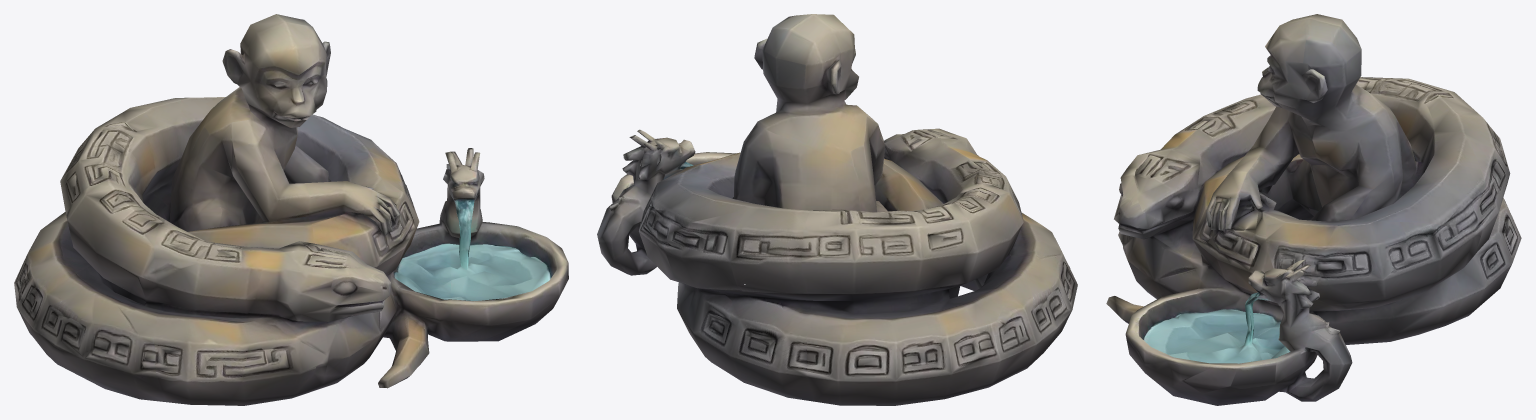
The model's file is he_si_shen.glb.
3 renders of one model, left to right at view 1: azimuth 30°, elevation 25°; view 2: azimuth 150°, elevation 25°; view 3: azimuth 270°, elevation 25°, orthographic.
Visible parts, largest first — view 1: tripo_node_a295179b-329f-4d72-bdf3-c4b051d9d51f; view 2: tripo_node_a295179b-329f-4d72-bdf3-c4b051d9d51f; view 3: tripo_node_a295179b-329f-4d72-bdf3-c4b051d9d51f.
Boxes of the visible parts, x1=… form: tripo_node_a295179b-329f-4d72-bdf3-c4b051d9d51f: x1=14, y1=14, x2=568, y2=405; tripo_node_a295179b-329f-4d72-bdf3-c4b051d9d51f: x1=597, y1=14, x2=1077, y2=405; tripo_node_a295179b-329f-4d72-bdf3-c4b051d9d51f: x1=1106, y1=14, x2=1521, y2=405.
Bounding box in the file's own units: 0.9995 × 0.619 × 0.785.
Materials: 1 (1 with a texture image).
